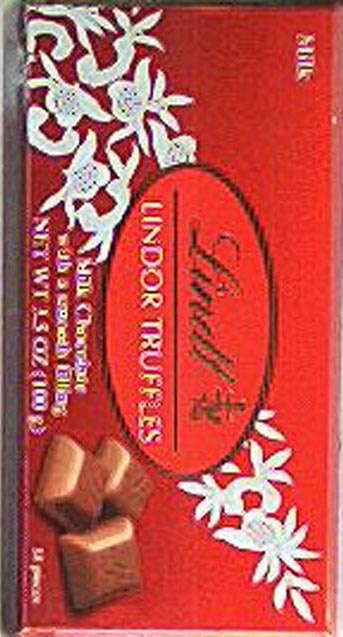grozi_64: (0, 0, 342, 636)
